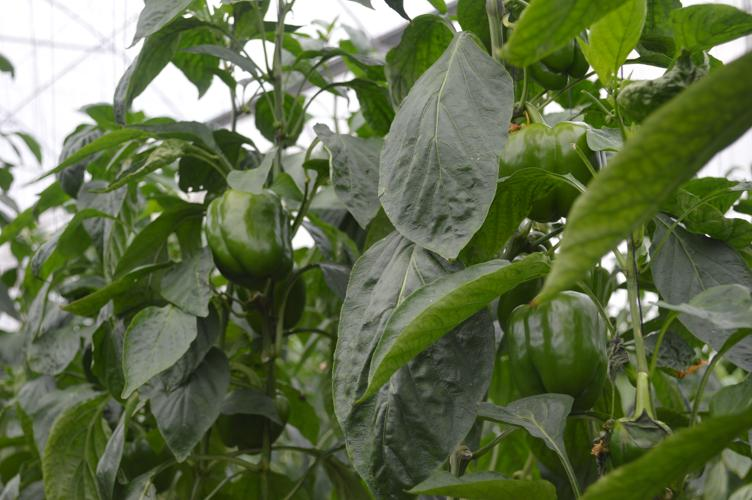BellPepper: (482, 289, 612, 417), (487, 111, 609, 239), (195, 180, 299, 299)
